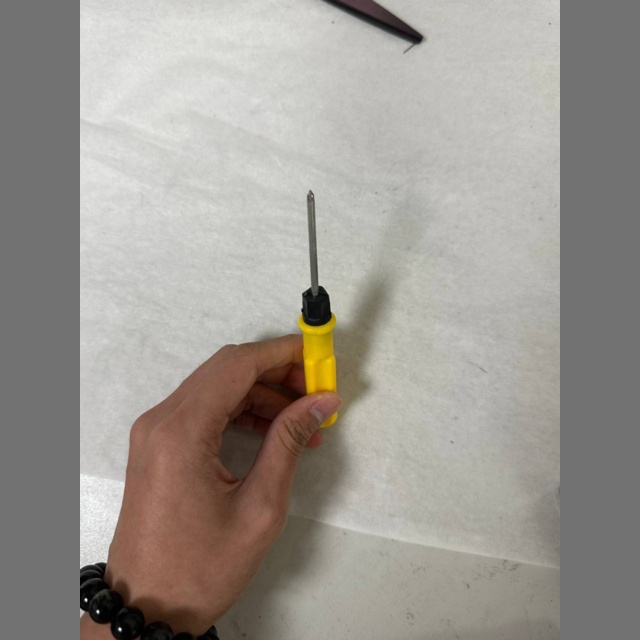screwdriver: (299, 191, 337, 427)
